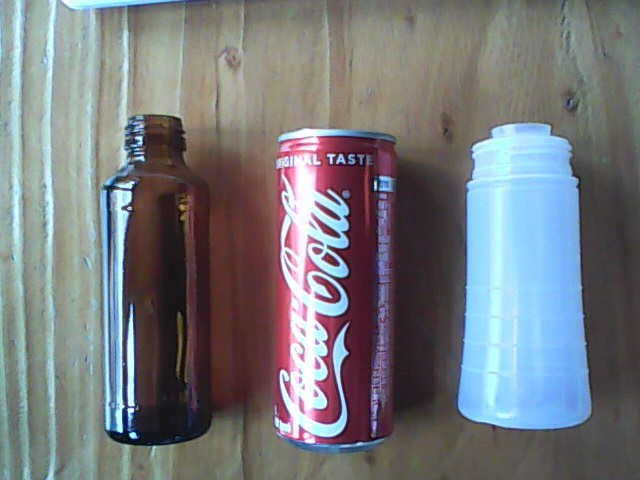Can: (265, 123, 402, 457)
Glass: (95, 109, 213, 448)
Plastic: (454, 118, 601, 436)
